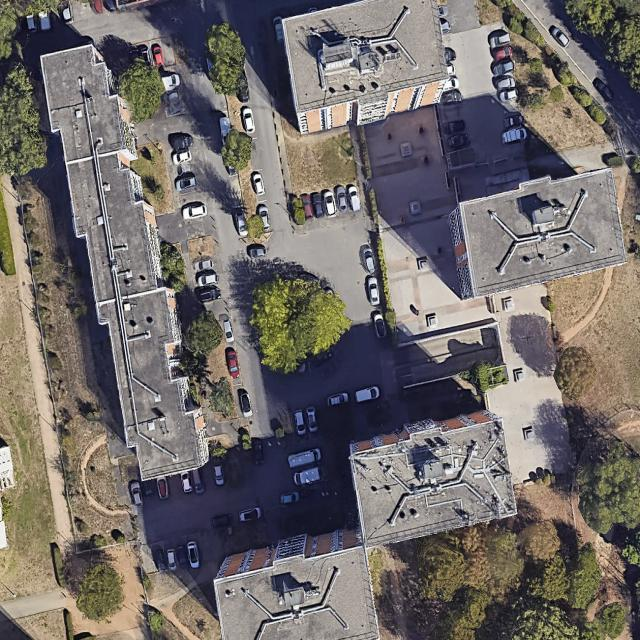immeuble: (33, 36, 215, 485), (439, 160, 634, 302), (344, 407, 520, 546), (278, 0, 453, 133), (207, 525, 379, 640)
